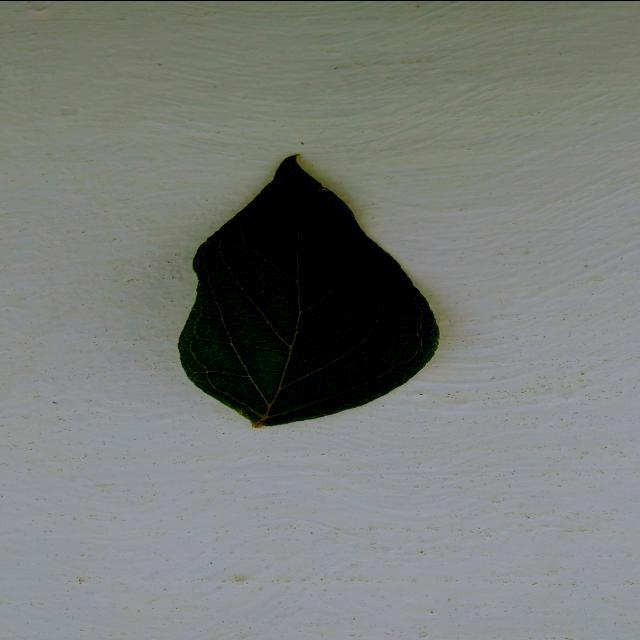leaf: (176, 152, 440, 428)
